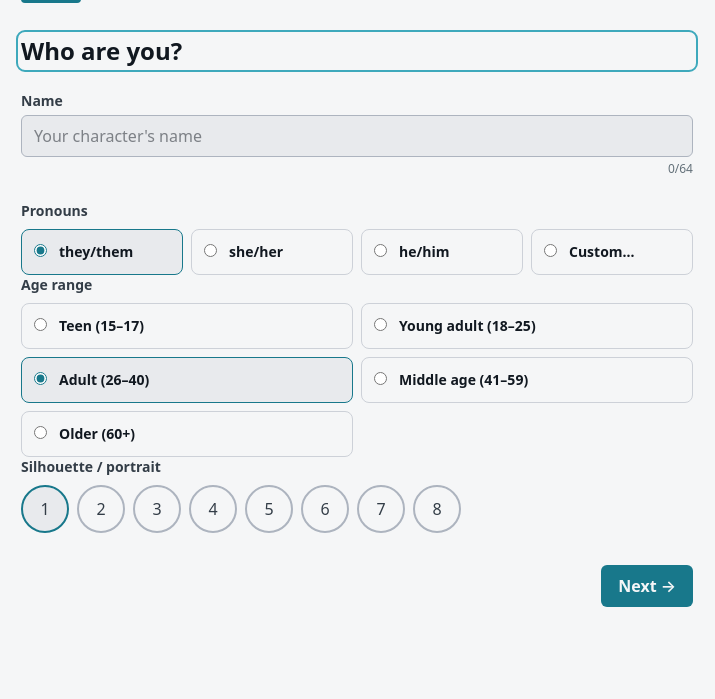
Test: CharacterCreation – motivation step › renders motivation and weakness textareas
This screenshot has width=715, height=699.
Type "Morgan" into the field labelled "Name" at (357,136), box [21,115,693,157]
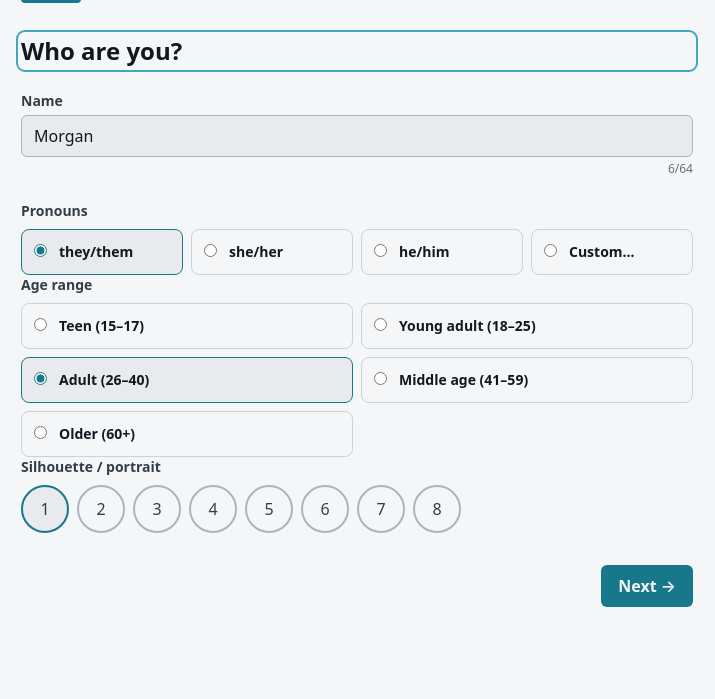
Click the button "Next →" at (647,586), box [601,565,693,607]
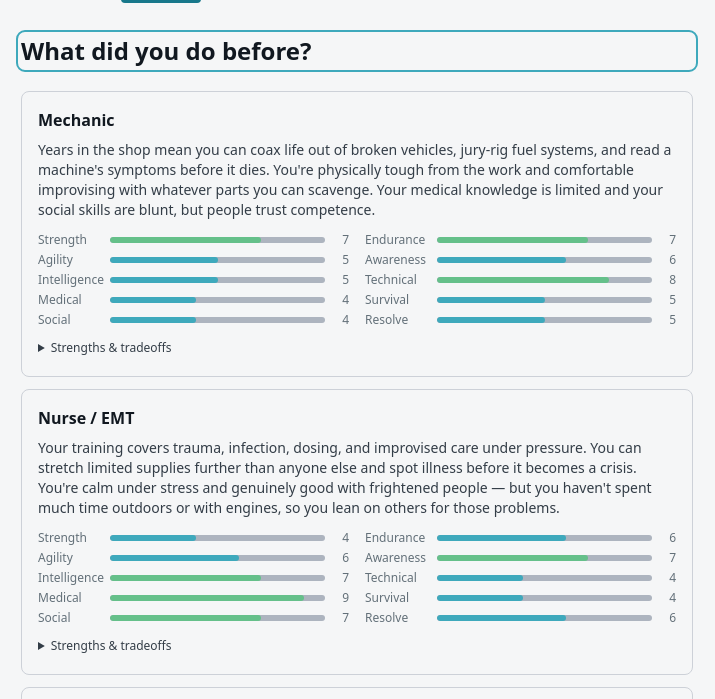
Click the radio button that starts with "Mechanic" at (357,234), box [21,91,693,377]
(page scrolled)
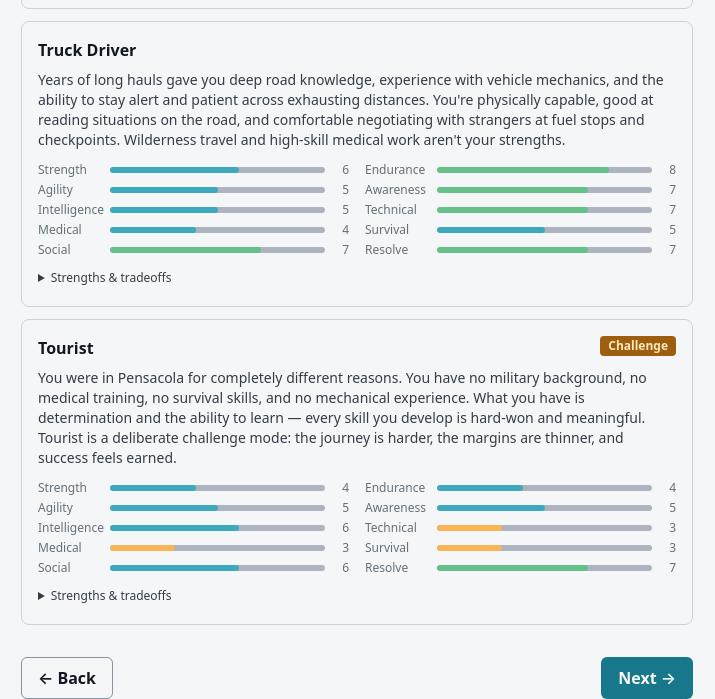
Click the button "Next →" at (647,678), box [601,657,693,698]
(page scrolled)
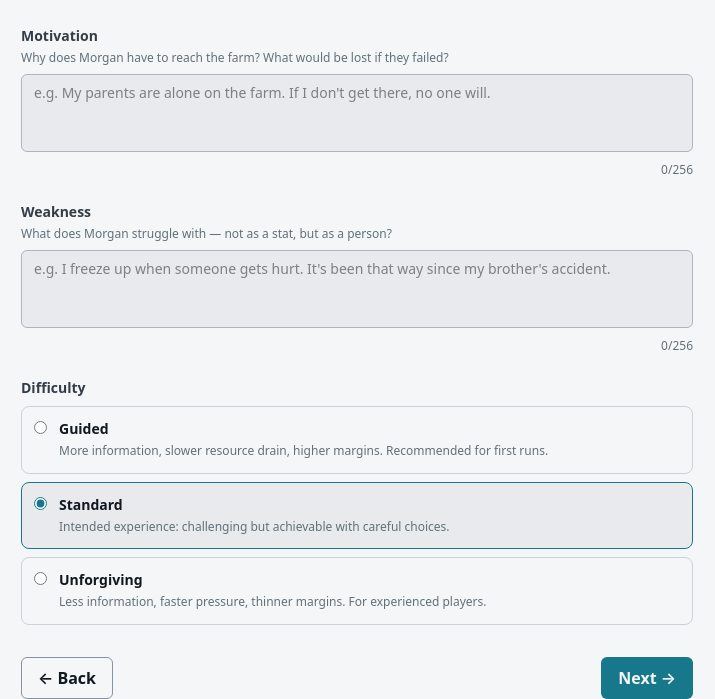
expect the text box labelled "Motivation" is shown: met, box [21,74,693,152]
expect the text box labelled "Weakness" is shown: met, box [21,250,693,328]
